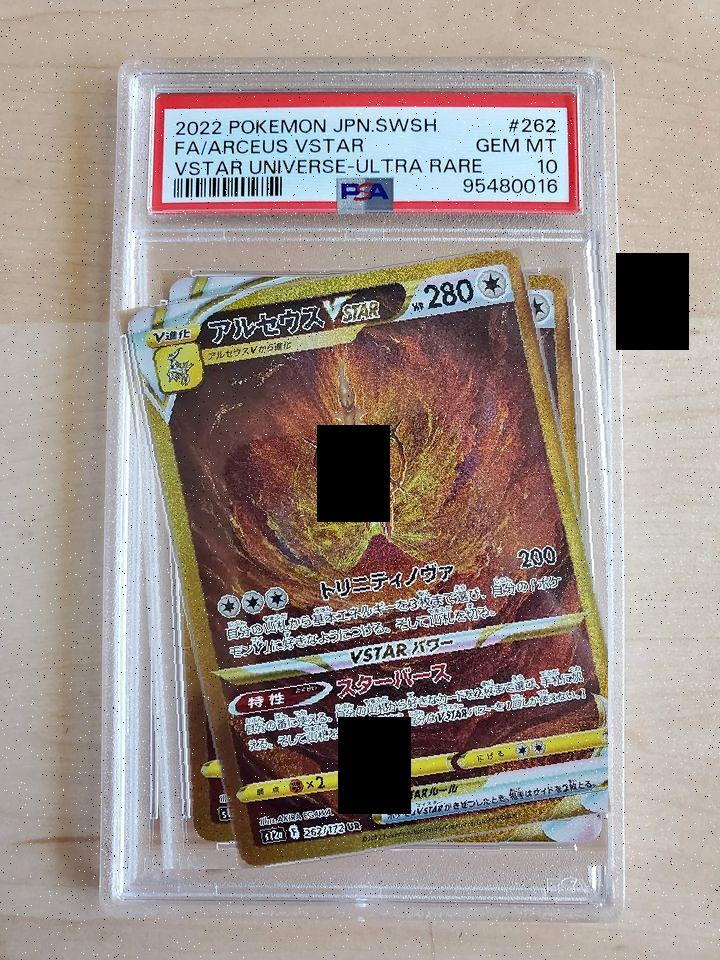card: (131, 250, 608, 869)
